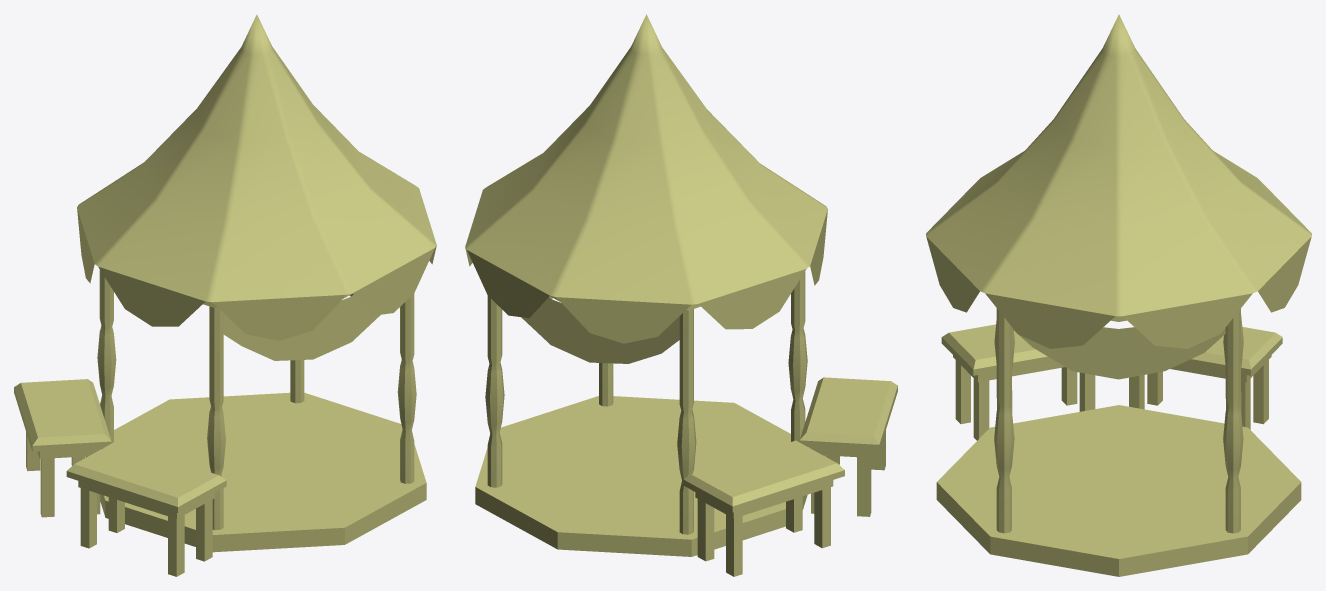
The model's file is Сanopy_Pro.fbx.
3 renders of one model, left to right at view 1: azimuth 30°, elevation 25°; view 2: azimuth 150°, elevation 25°; view 3: azimuth 270°, elevation 25°, orthographic. The views are drawn at different scales.
Visible parts, largest first — view 1: Сanopy_Pro; view 2: Сanopy_Pro; view 3: Сanopy_Pro.
Part boxes in pixels (bbox=[...]): Сanopy_Pro: bbox=[14, 14, 436, 576]; Сanopy_Pro: bbox=[465, 14, 897, 576]; Сanopy_Pro: bbox=[926, 14, 1311, 576].
Bounding box in the file's own units: 511 × 615 × 442.
